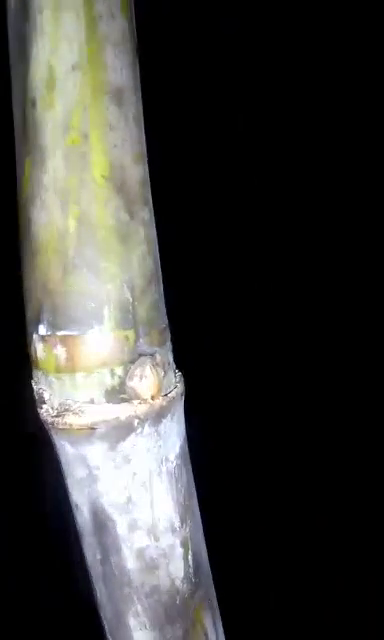cane eye: (125, 355, 170, 405)
